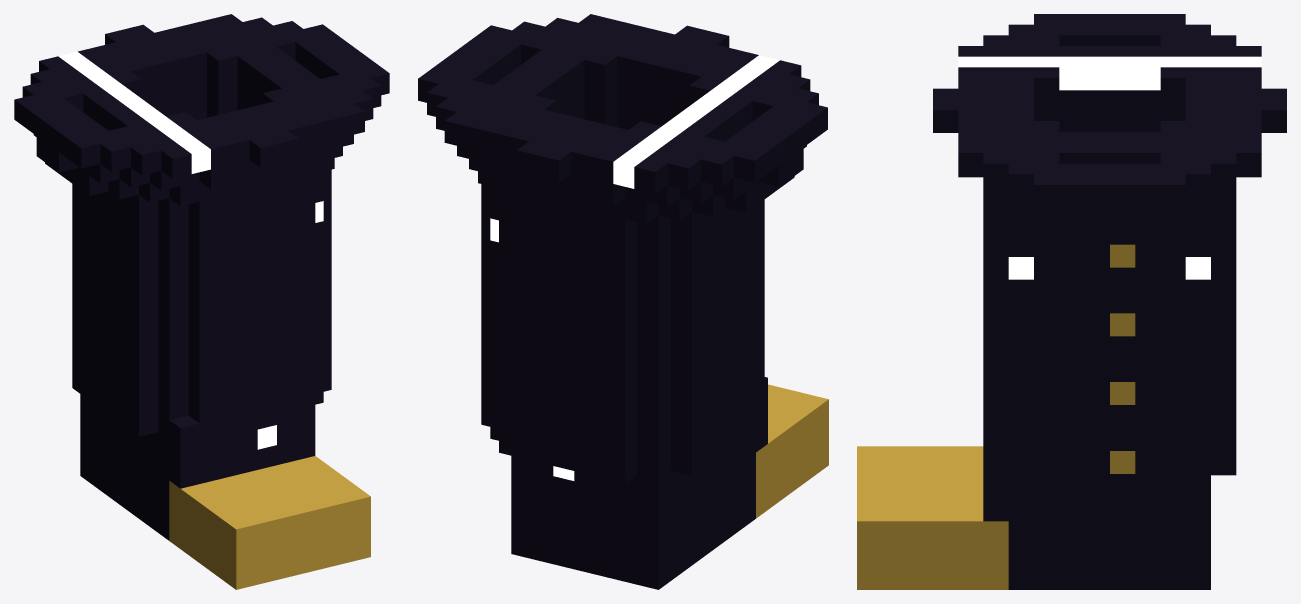
Rendered from mystic_legendary_glove_L.glb.
3 views of the same model, side by side, from view 1: azimuth 30°, elevation 25°; view 2: azimuth 150°, elevation 25°; view 3: azimuth 270°, elevation 25° (orthographic). The views are drawn at different scales.
Visible parts, largest first — view 1: mystic_legendary_glove_L; view 2: mystic_legendary_glove_L; view 3: mystic_legendary_glove_L.
Part boxes in pixels (left/top/right/bottom): mystic_legendary_glove_L: left=14, top=14, right=389, bottom=589; mystic_legendary_glove_L: left=418, top=14, right=828, bottom=589; mystic_legendary_glove_L: left=857, top=14, right=1286, bottom=589.
Bounding box in the file's own units: 0.192 × 0.24 × 0.204.
